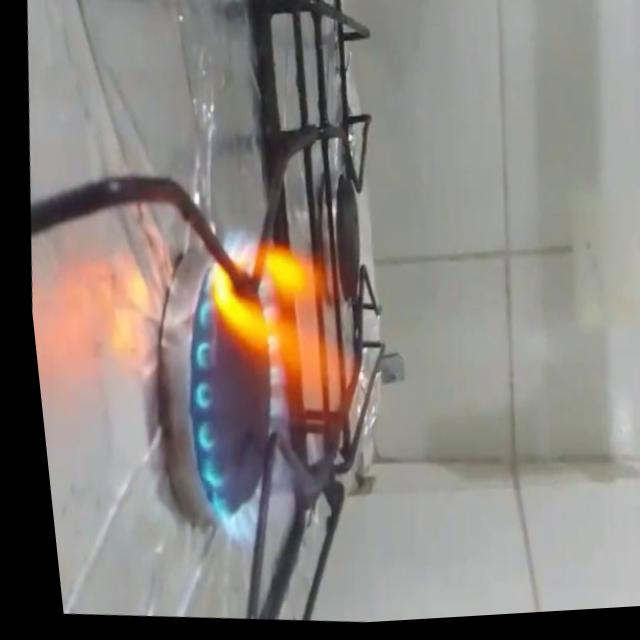Fire: (155, 213, 390, 560)
